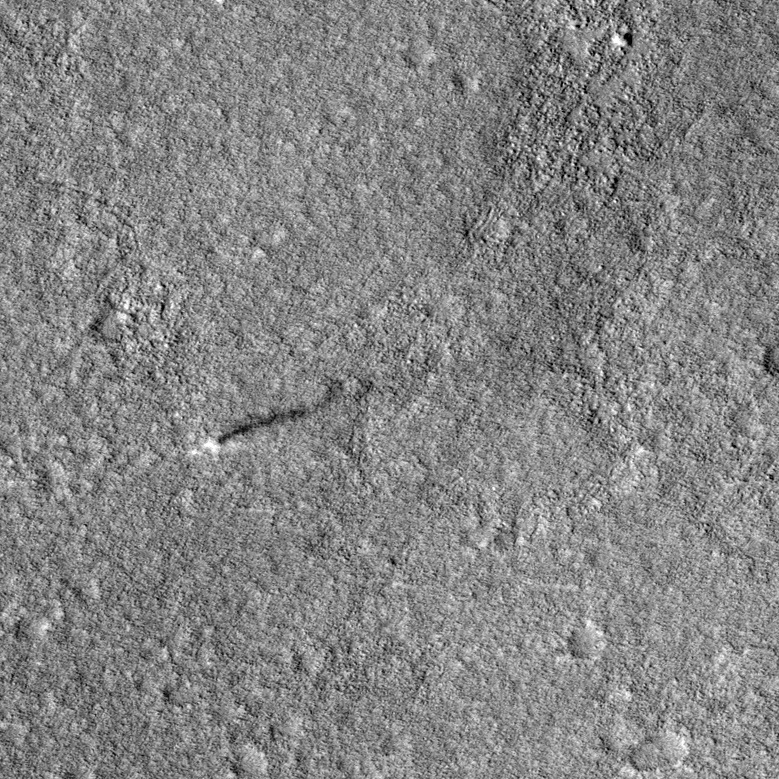dust_devil: (186, 380, 343, 458)
